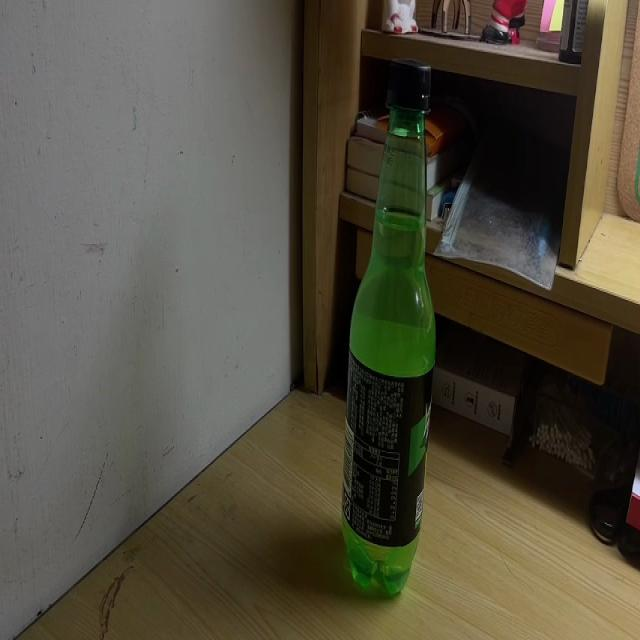Mountain-Dew: (342, 61, 434, 600)
